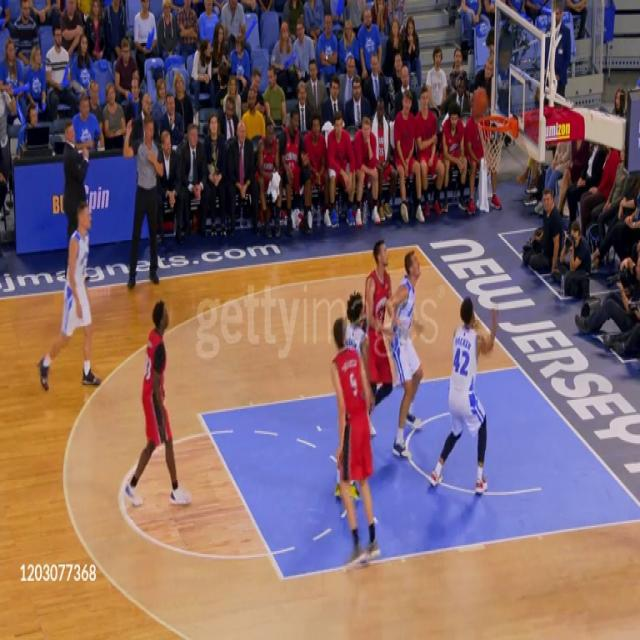ball: (471, 82, 489, 116)
